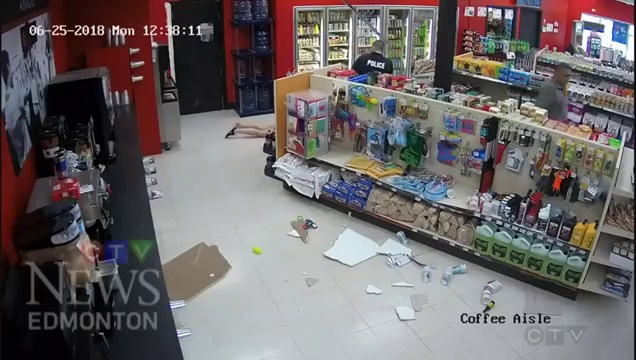face: (558, 67, 573, 87)
